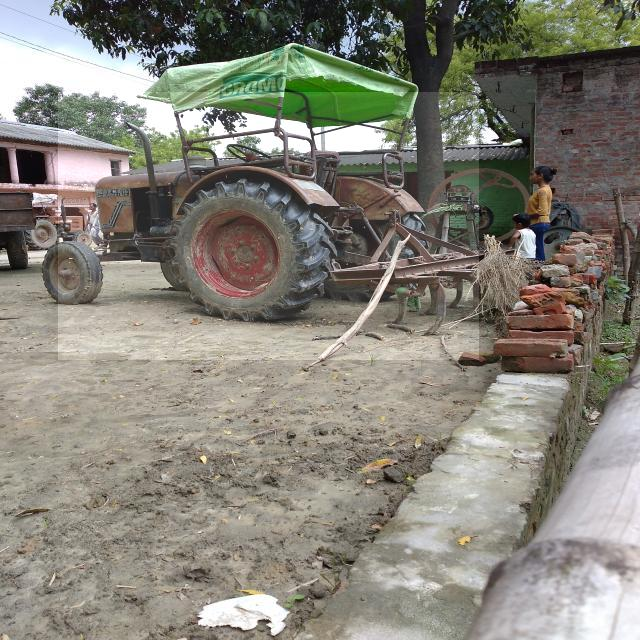Tractot: (58, 92, 479, 360)
